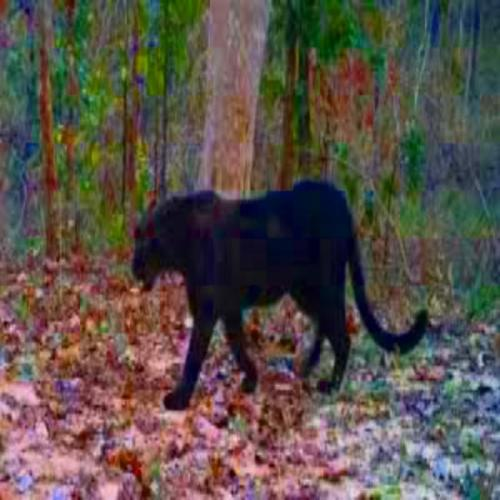panther-endangered: (130, 179, 430, 410)
